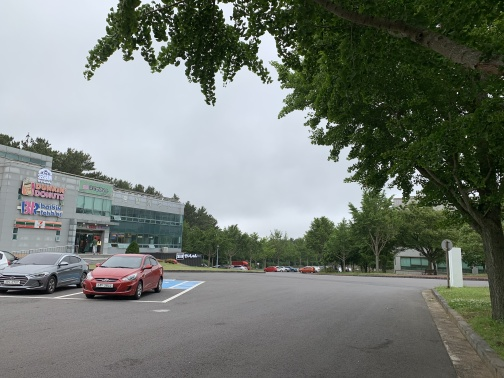Global House: (1, 144, 199, 265)
Second Library: (391, 239, 485, 275)
